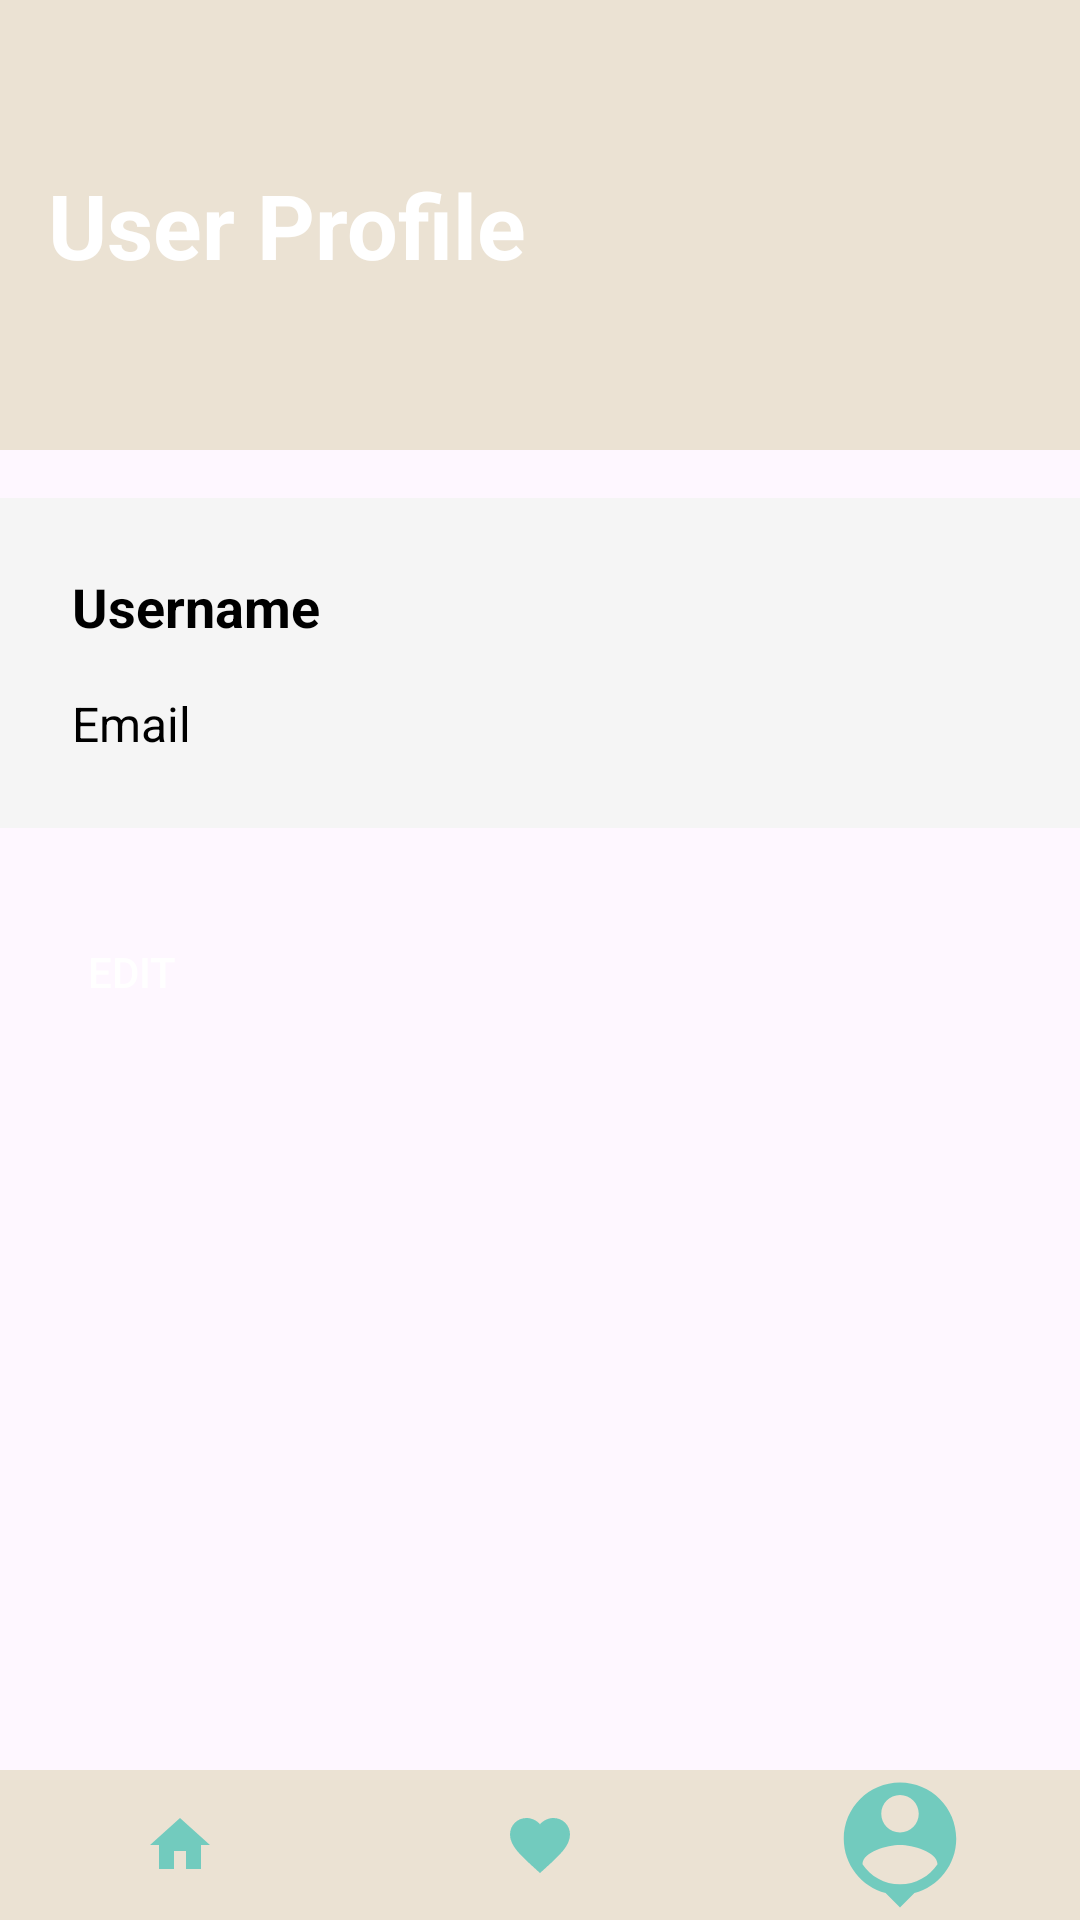

Icons on this 1080×1920 Android screen, each with the point to tap as point (x, y):
FAVORITE: point (540, 1845)
HOME: point (180, 1843)
PROFILE: point (900, 1844)
